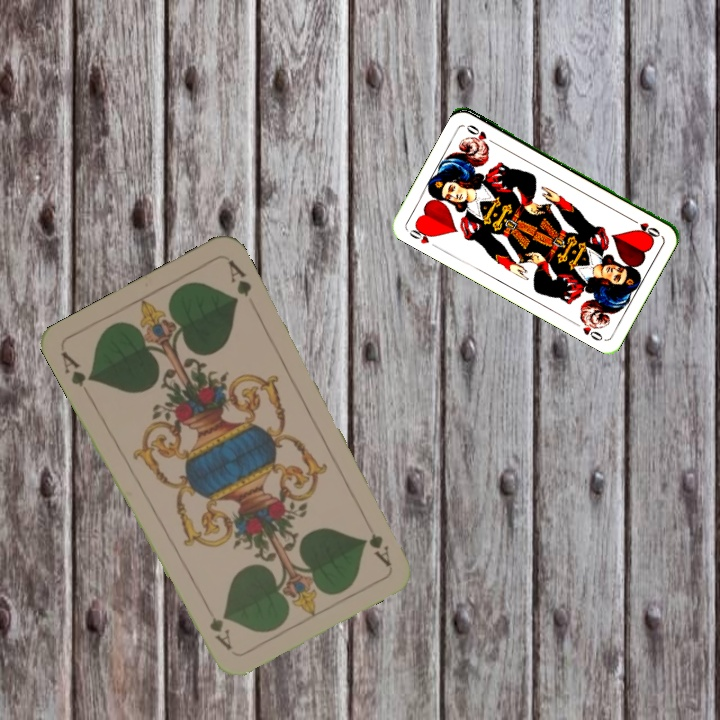GA: (57, 346, 96, 390), (365, 529, 394, 569)
HO: (404, 221, 441, 251), (626, 214, 663, 239)
